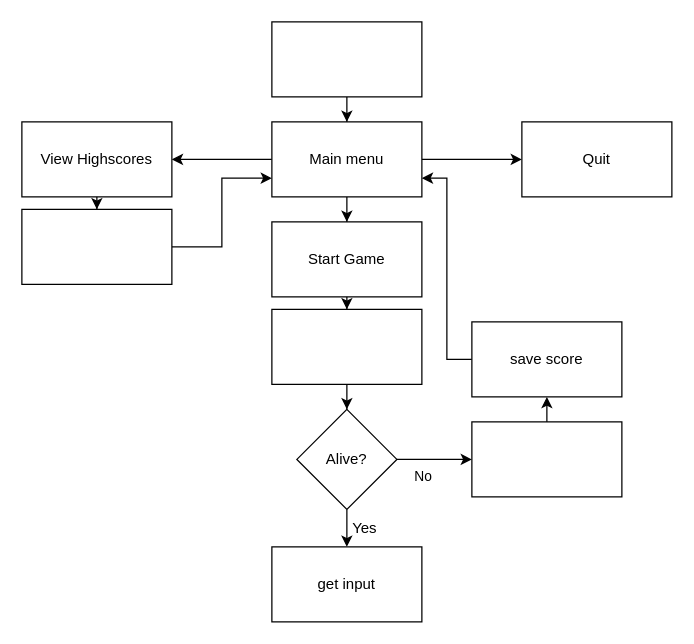
Some shapes in this 694 by 644 pixel diagram are drawn without their labels. The shapes that lost their labels are listed below. From the top down, each one's centre as x and y in pixels, then its label:
At pixel 346 59: "Begin".
At pixel 96 246: "Get values from file and display them".
At pixel 346 346: "Choose difficulty and set Values".
At pixel 546 459: "Display score and ask for name to save score".
